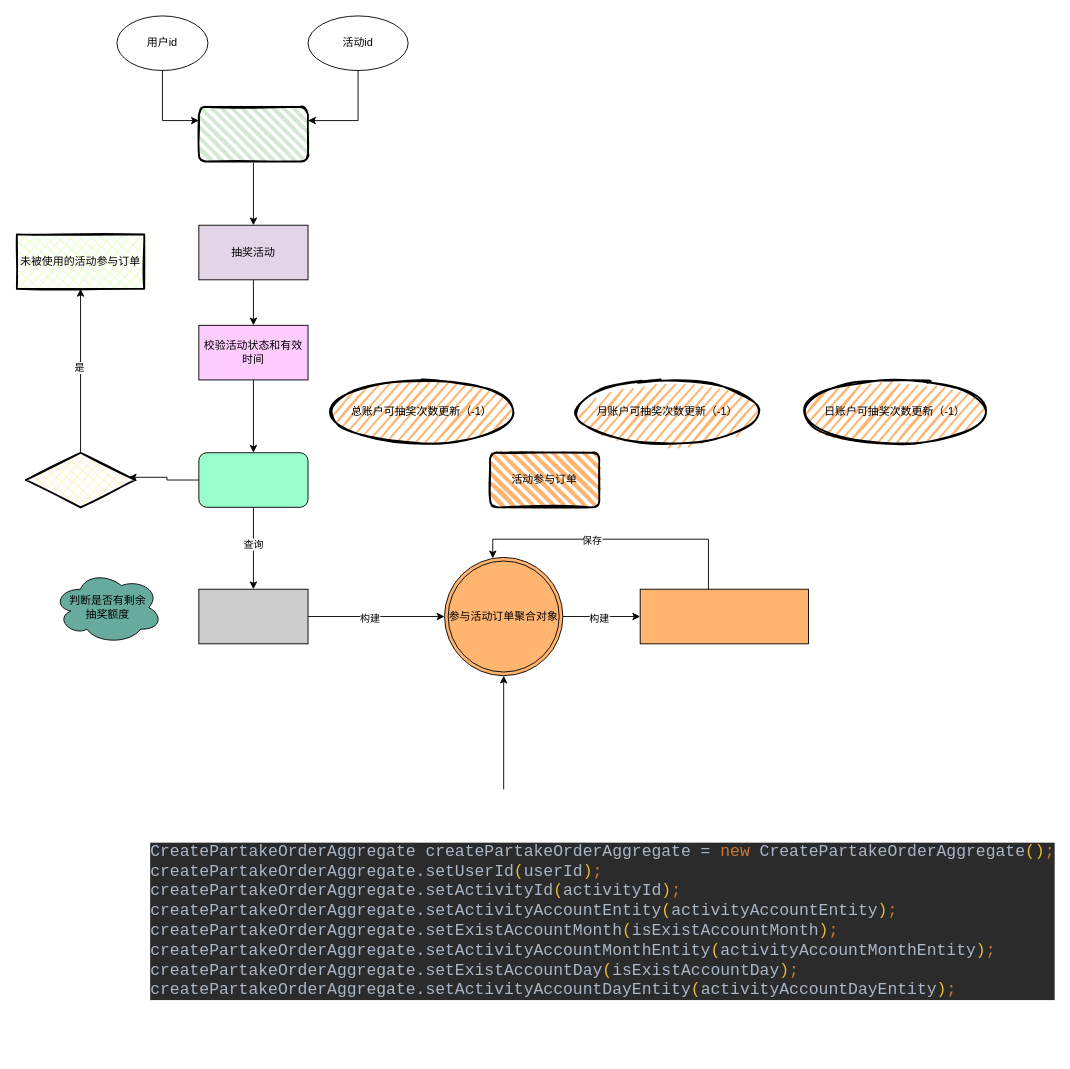
Image size: 1070x1069. Some labels were removed from this diagram. The centre of each missing label's shape, as x and y in pixels:
参与抽奖活动: point (252, 134)
存在: point (80, 479)
查询未被使用的活动参与订单记录: point (253, 479)
用户参与活动订单 UserRaffleOrderEntity: point (724, 616)
用户账户总额度: point (253, 616)
